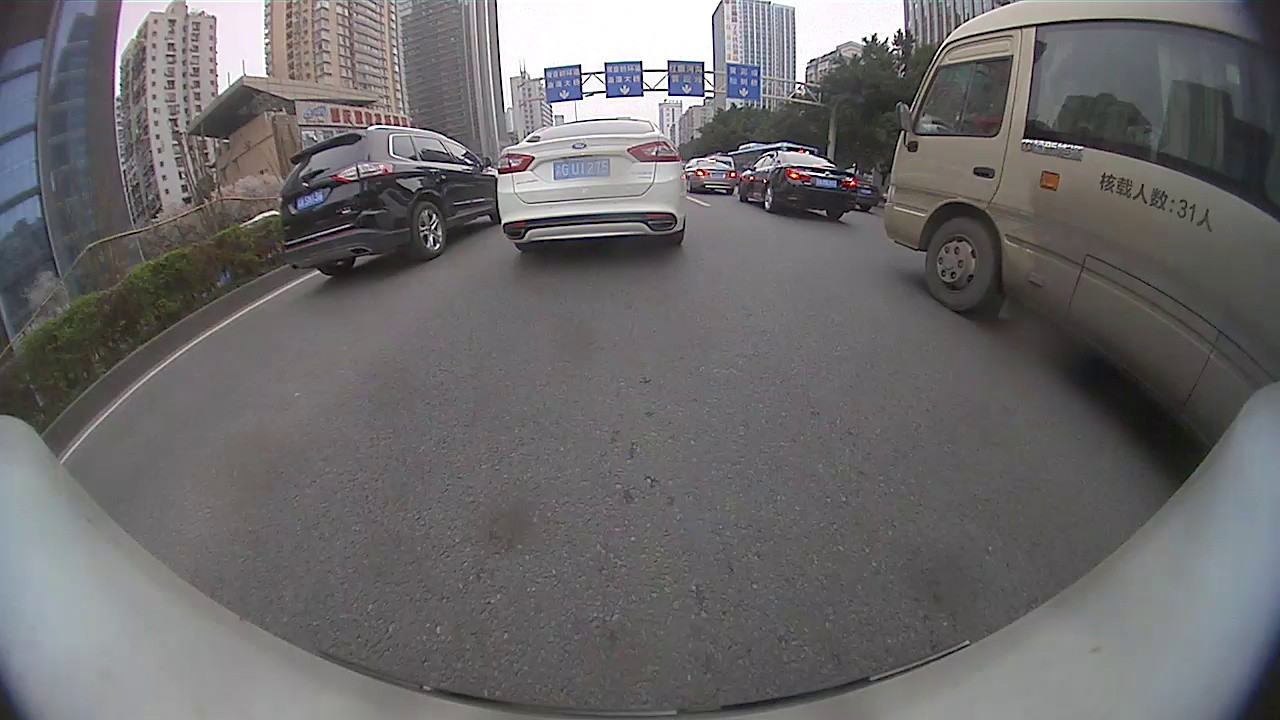bus: (883, 0, 1279, 447), (733, 140, 817, 156)
car: (278, 123, 497, 275), (499, 119, 687, 254), (738, 152, 860, 221), (689, 161, 737, 193), (854, 182, 883, 212)
front: (922, 217, 1003, 313)
rear: (405, 201, 448, 261), (764, 184, 777, 213)
